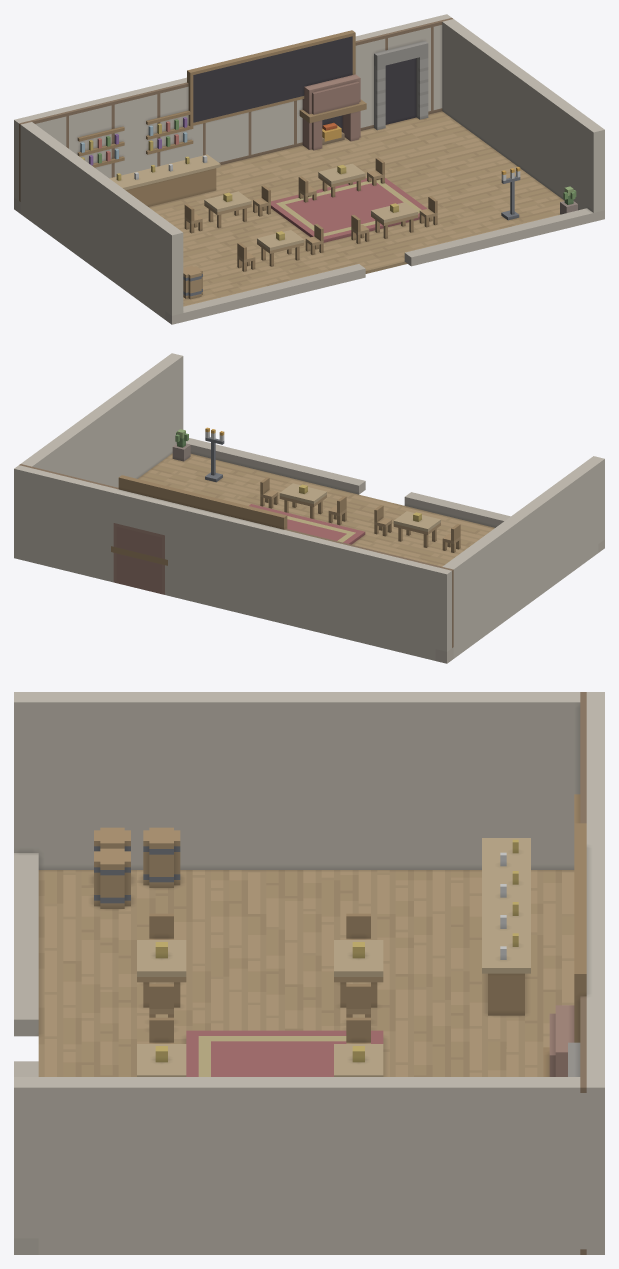
Rendered from piece_taverne.glb.
The picture shows the model from 3 angles, top to bottom: view 1: azimuth 30°, elevation 25°; view 2: azimuth 150°, elevation 25°; view 3: azimuth 270°, elevation 25°; orthographic projection. The views are drawn at different scales.
Visible parts, largest first — view 1: geometry_0; view 2: geometry_0; view 3: geometry_0.
Boxes of the visible parts, x1,y1,x2,y2 form: geometry_0: (14,14,604,324); geometry_0: (14,353,604,663); geometry_0: (14,692,604,1254).
Bounding box in the file's own units: 19 × 4.38 × 12.
